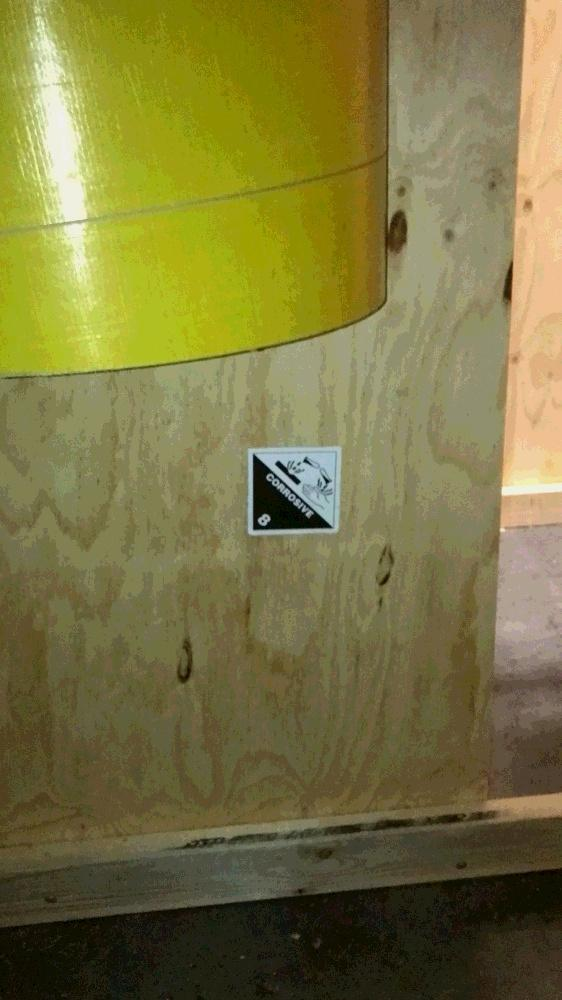corrosive: (246, 443, 343, 537)
